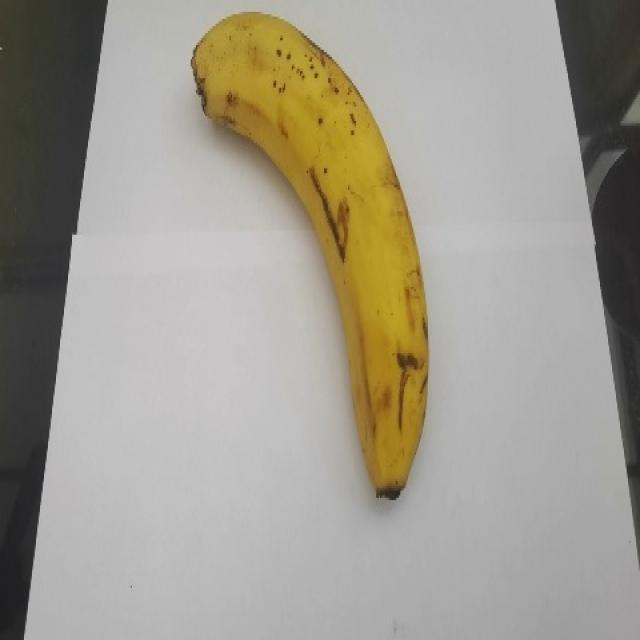Banana: (189, 11, 430, 500)
